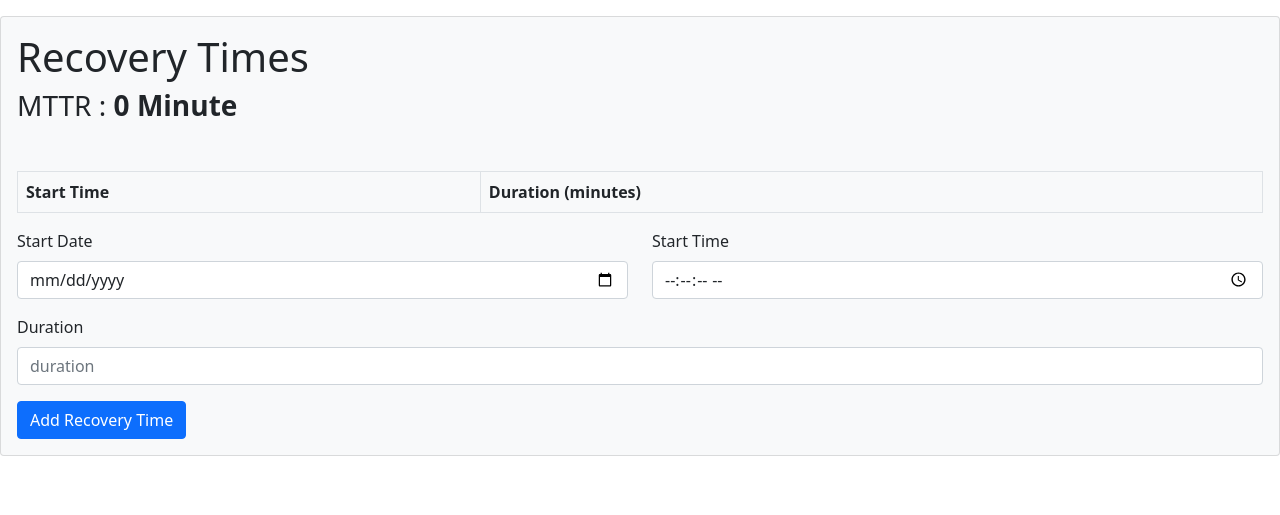
Test case: allow users to add recovery times
Type "2021-09-01" into the date field labelled "Start Date".
click(322, 280); type("2021-09-01")  # box [17,261,628,299]
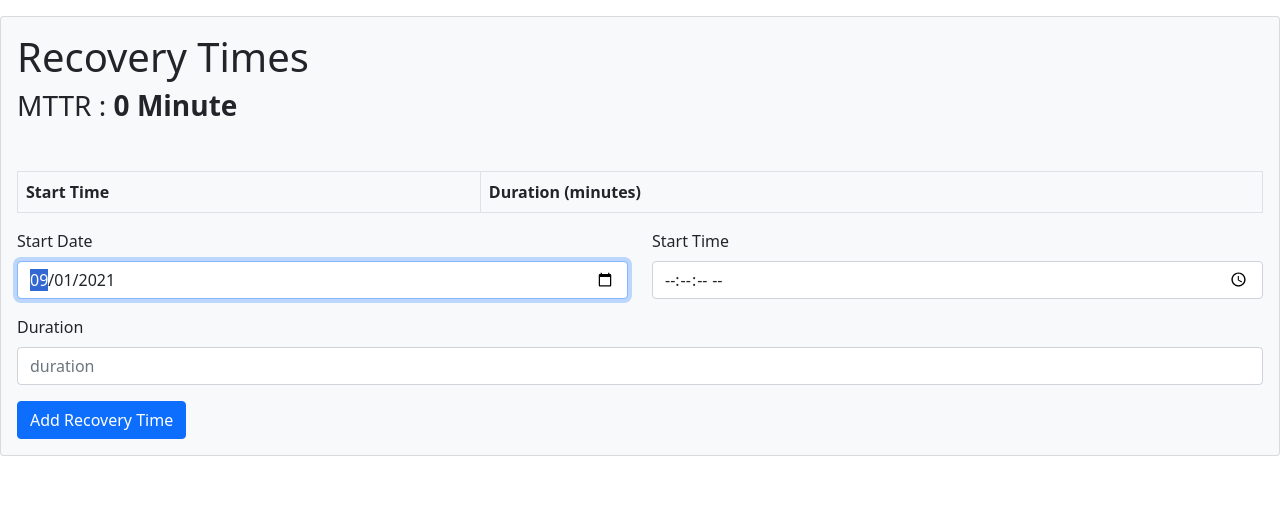
Type "2245" into the time field labelled "Start Time".
click(958, 280); type("2245")  # box [652,261,1263,299]
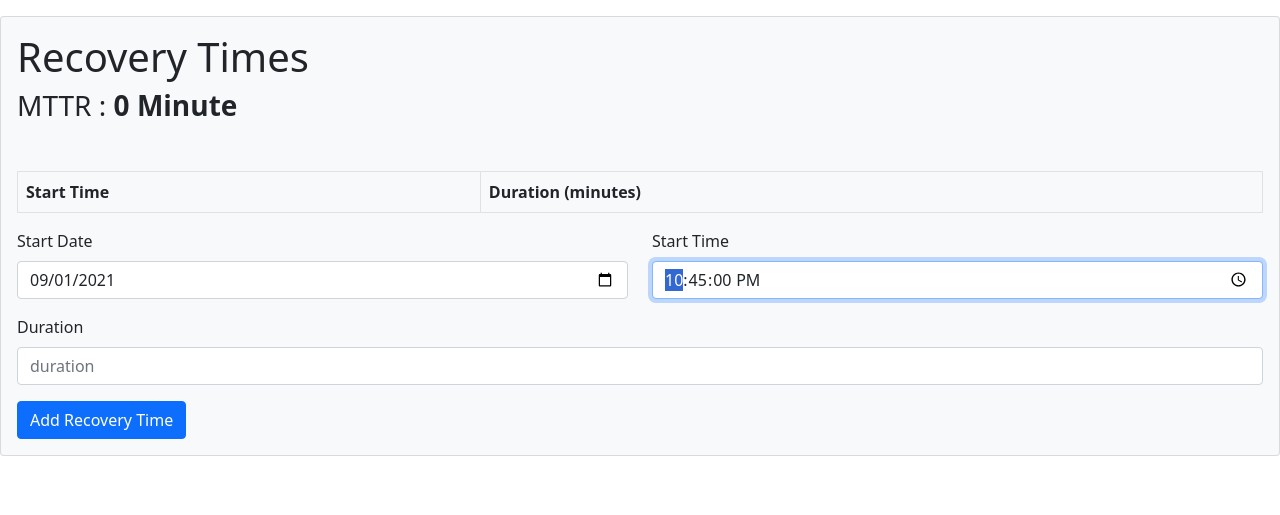
Type "15" into the number field labelled "Duration".
click(640, 366); type("15")  # box [17,347,1263,385]
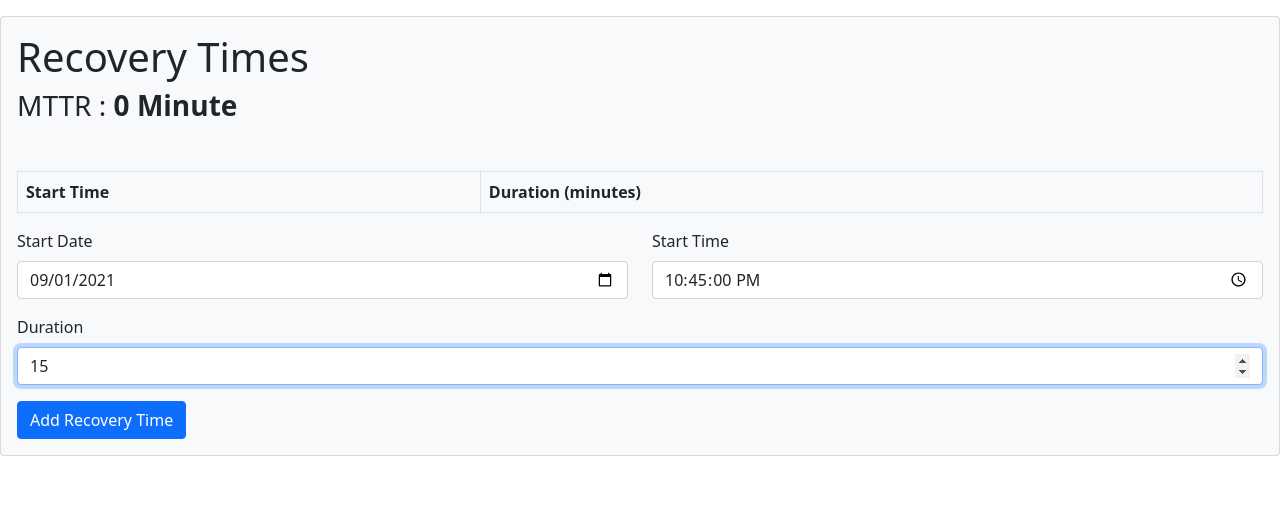
Click the button.
click(102, 420)  # box [17,401,186,439]
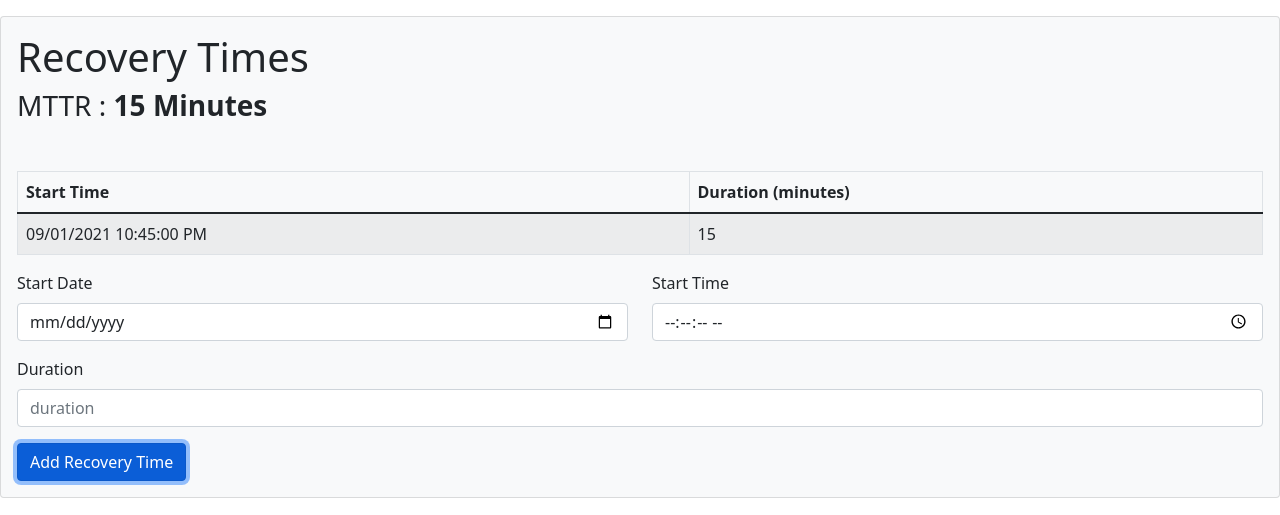
Expected: the heading "Recovery Times" is shown, [17,29,309,84]
Expected: the text "09/01/2021 10:45:00 PM" is shown, [18,213,689,254]
Expected: the text "15" is shown, [689,213,1262,254]
